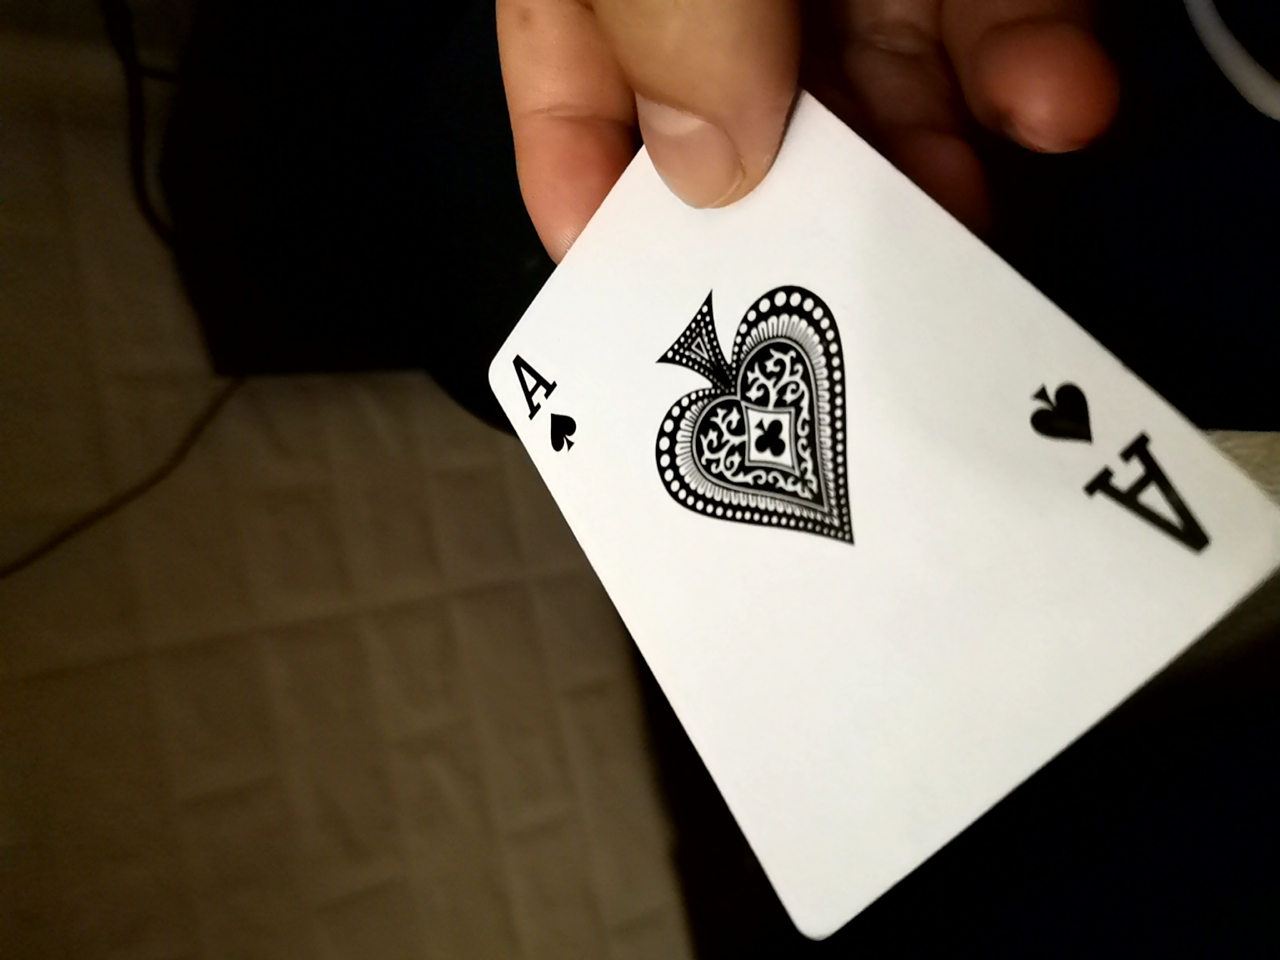ht a: (468, 82, 1229, 937)
